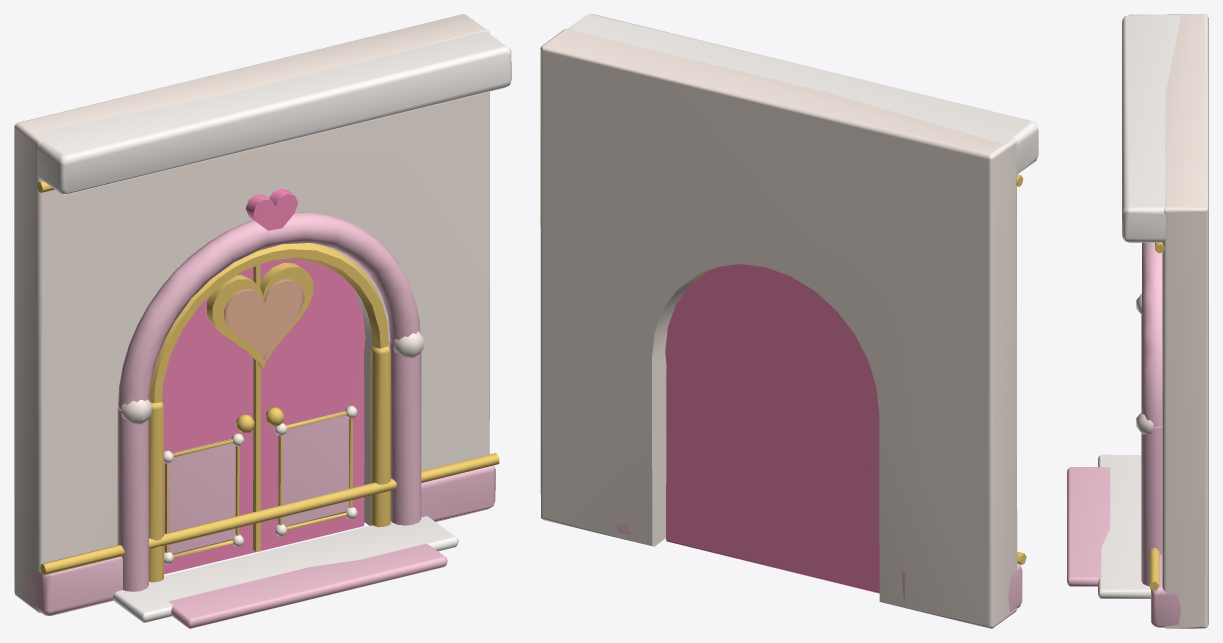
Rendered from wall_door.glb.
The picture shows the model from 3 angles, left to right: view 1: azimuth 30°, elevation 25°; view 2: azimuth 150°, elevation 25°; view 3: azimuth 270°, elevation 25°; orthographic projection. The views are drawn at different scales.
Parts seen in each view (by area): view 1: wall_door; view 2: wall_door; view 3: wall_door.
Boxes of the visible parts, x1=… form: wall_door: x1=14, y1=14, x2=511, y2=628; wall_door: x1=540, y1=14, x2=1038, y2=628; wall_door: x1=1067, y1=14, x2=1208, y2=628.
Size of the model in its own units: 4 by 4 by 1.22.
